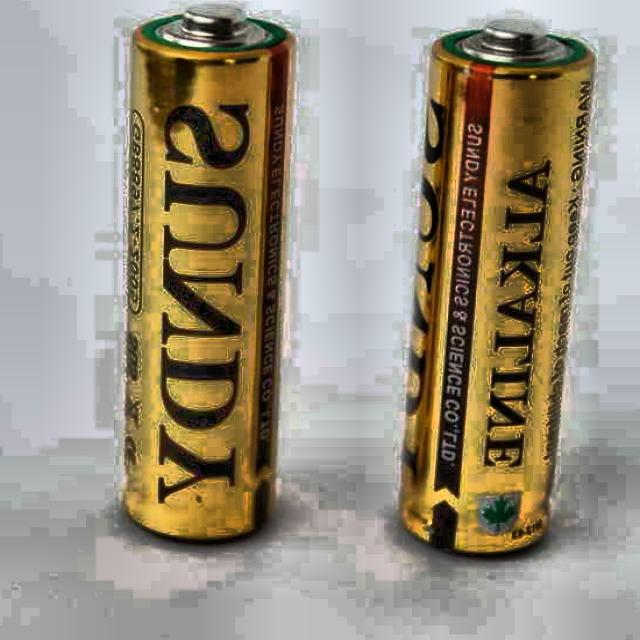Non-Valuable Waste - Batteries: (400, 19, 593, 554), (124, 4, 294, 540)
